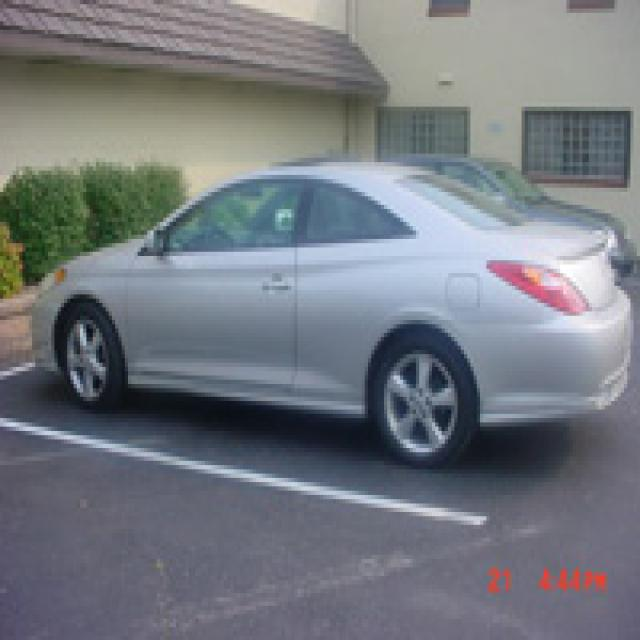Car: (31, 150, 628, 454)
